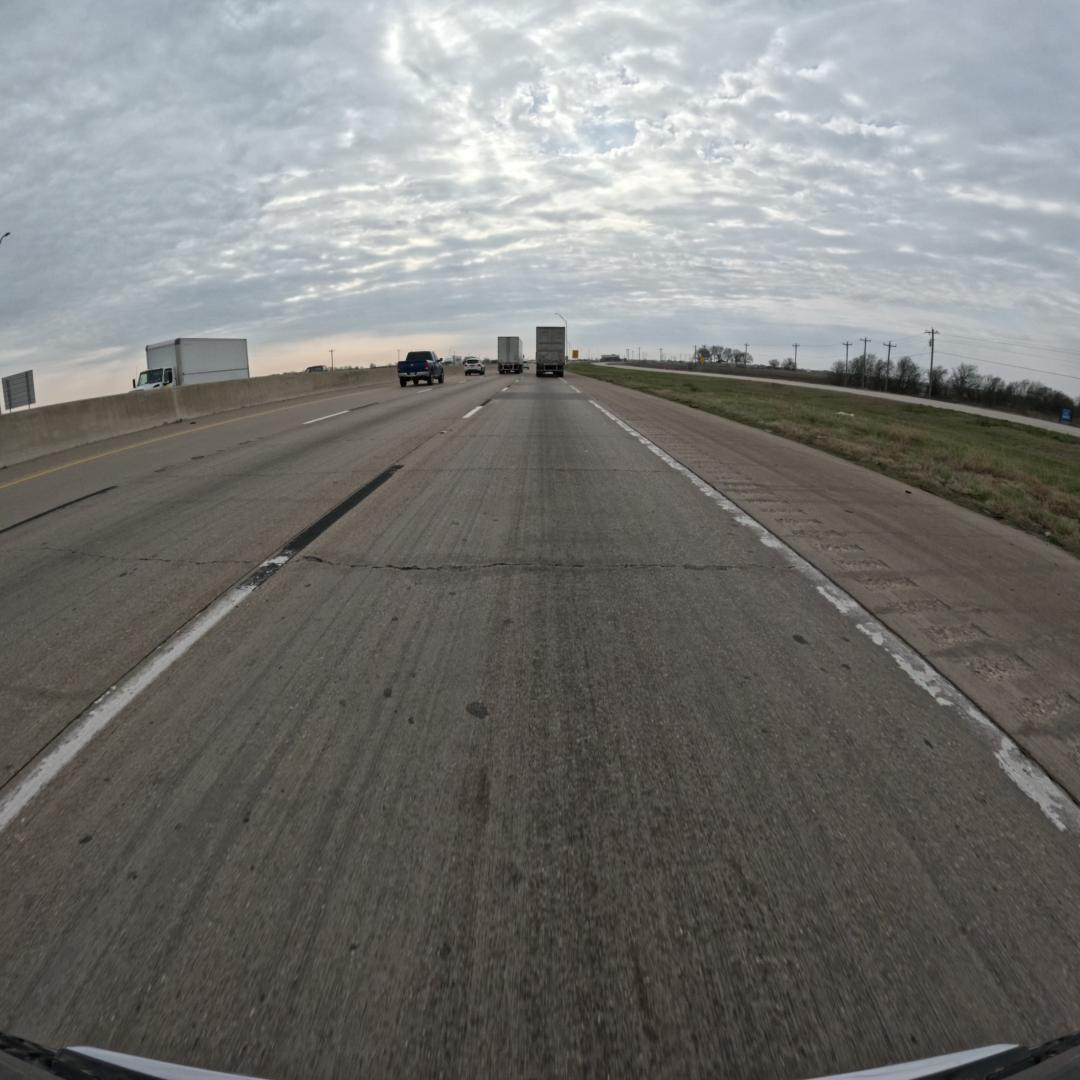lane0: (0, 379, 1080, 1076)
lane1: (0, 374, 507, 787)
